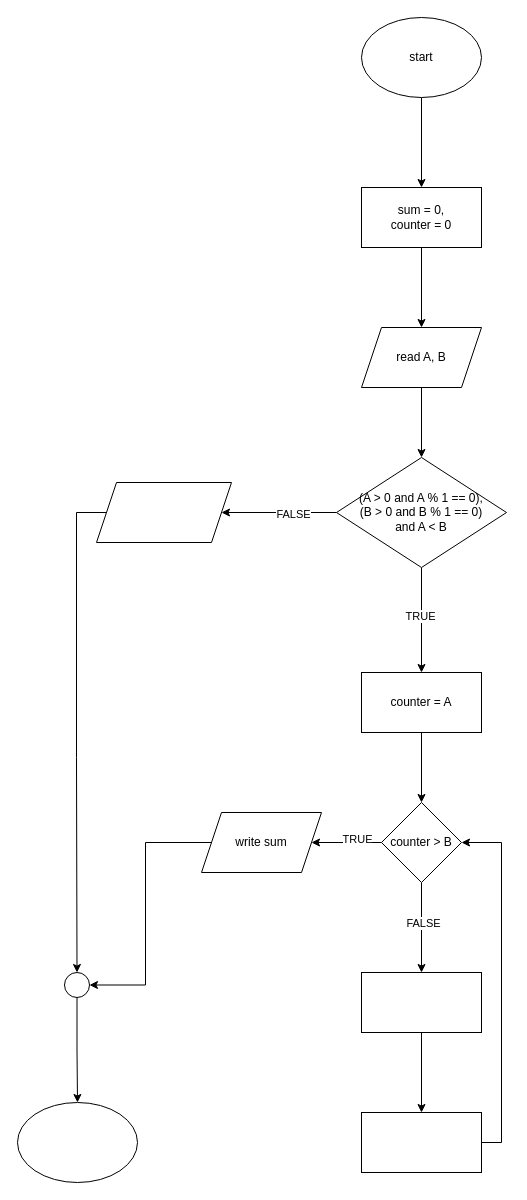
Image size: 527x1200. Some labels were removed from this diagram. The shapes that lost their labels are listed below. From the top down, each one's centre as x and y in pixels, then its label:
point 164,512: write "Error wrong numbers parameters"
point 421,1002: sum = sum + counter
point 77,1142: end
point 421,1142: counter += 1
